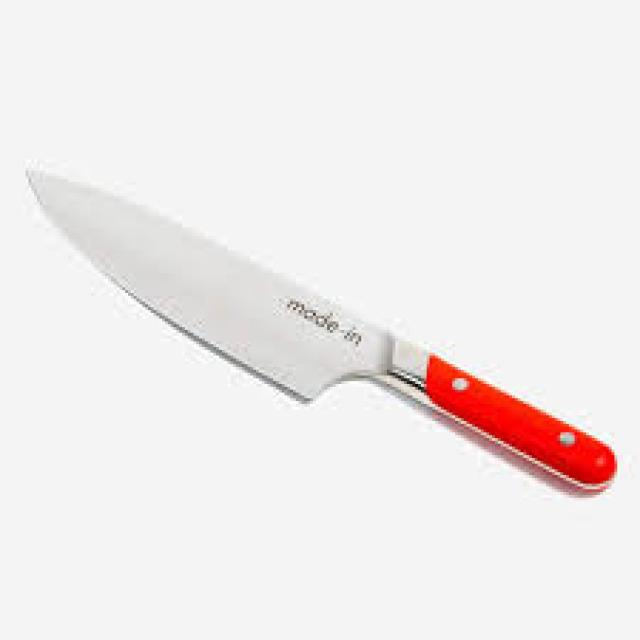knives: (20, 156, 620, 504)
